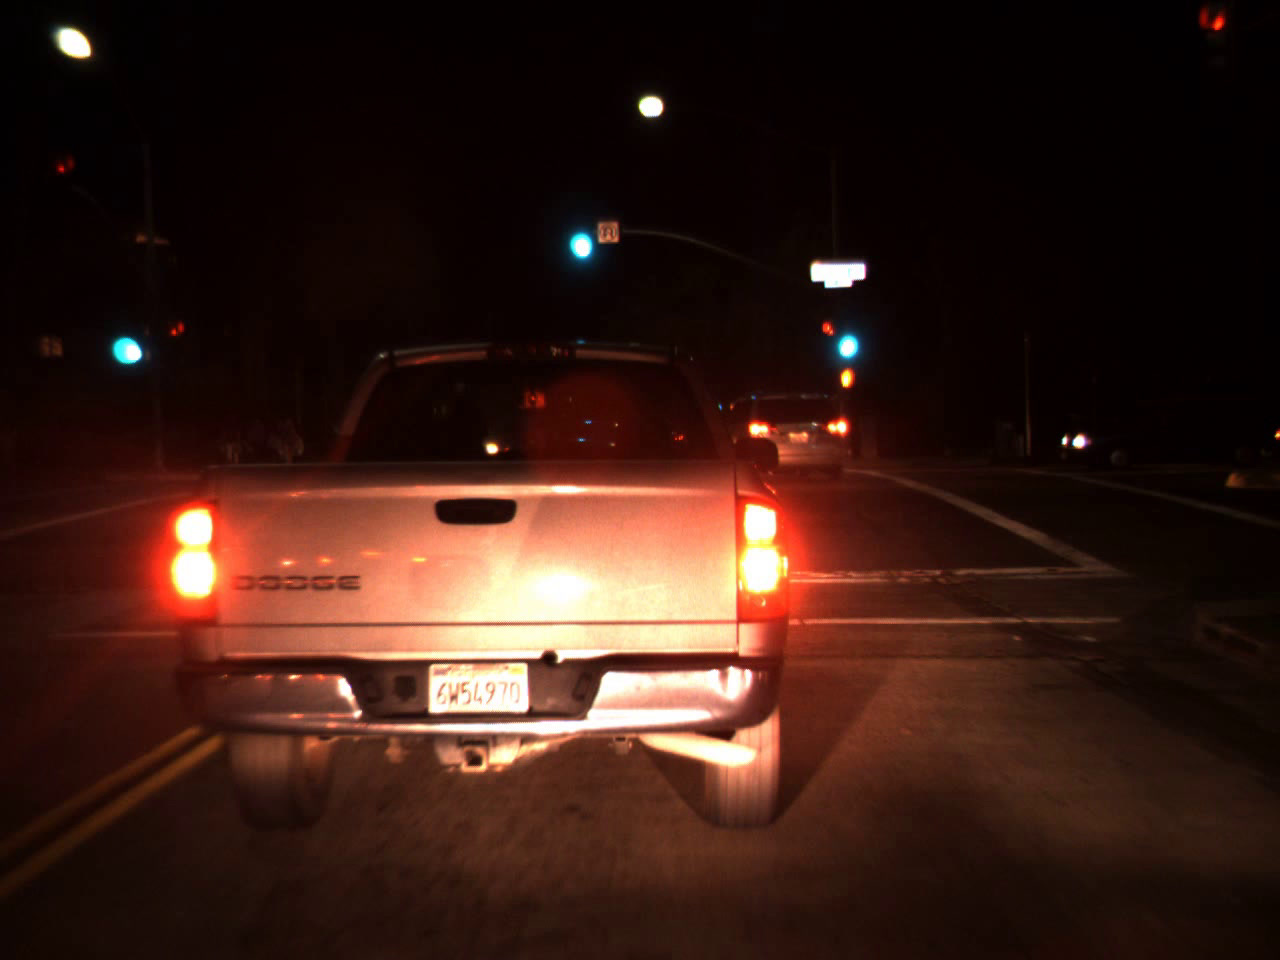go: (102, 301, 145, 375), (560, 198, 597, 270), (829, 303, 863, 369)
